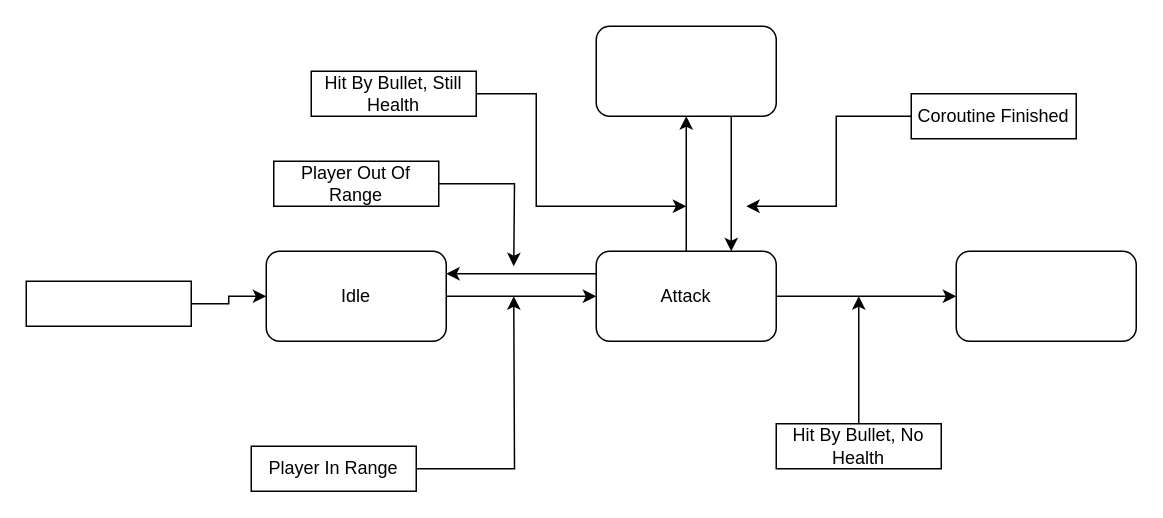
The diagram is 1163 pixels wide and 518 high, and some of its shapes have lost their labels. The shapes that lost their labels are listed below. From the top down, each one's box as (x1, y1, x2, y2) in pixels, then its label:
(595, 25, 776, 116): Damage
(25, 280, 191, 326): Start
(955, 250, 1136, 341): Dead
